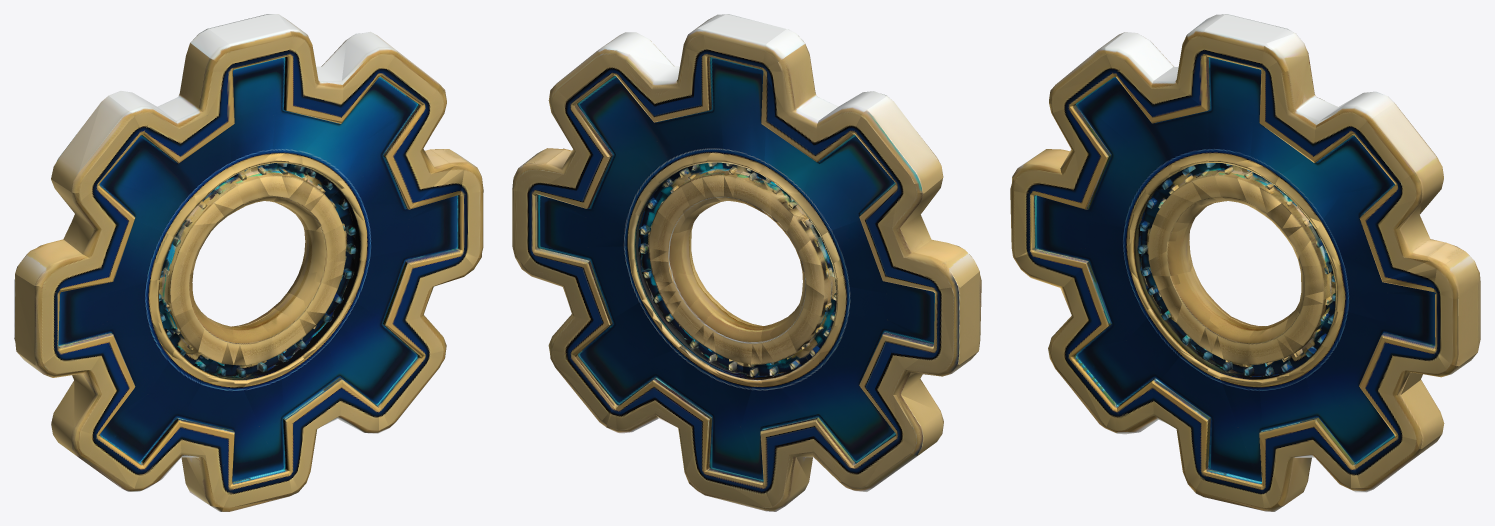
Rendered from hub_prop_settings.glb.
The picture shows the model from 3 angles, left to right: view 1: azimuth 30°, elevation 25°; view 2: azimuth 150°, elevation 25°; view 3: azimuth 330°, elevation 25°; orthographic projection.
Size of the model in its own units: 1 by 1 by 0.0986.
Materials: 1 (1 with a texture image).
